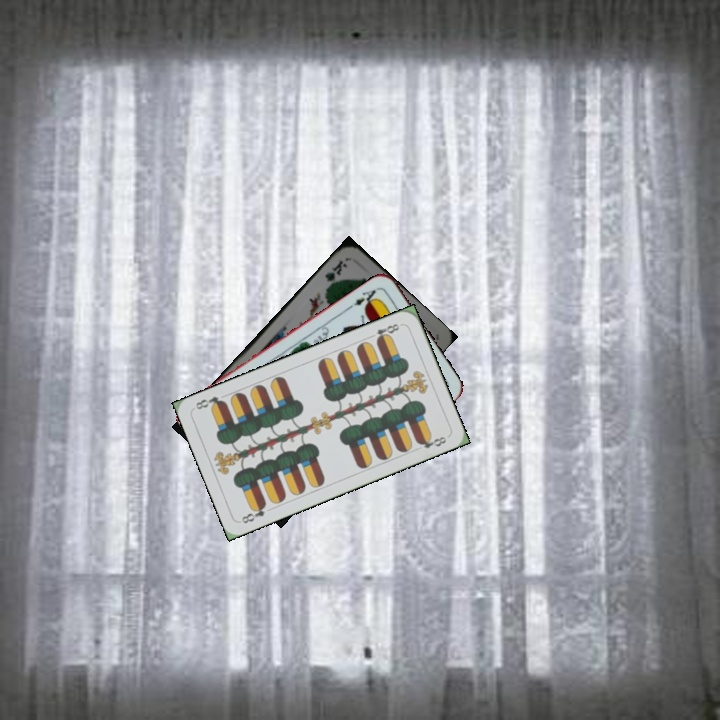E8: (365, 320, 404, 344), (237, 499, 269, 526)
EA: (345, 283, 382, 311)
GK: (321, 256, 350, 291)
